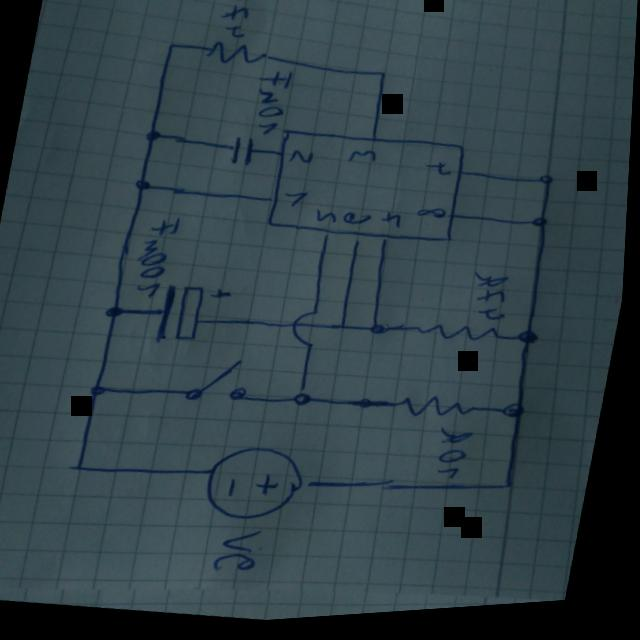capacitor: (156, 281, 211, 352), (225, 136, 260, 174)
crossover: (285, 307, 329, 360)
junction: (499, 404, 533, 433), (288, 390, 324, 417), (515, 332, 547, 360), (351, 396, 381, 421), (102, 302, 133, 326), (497, 478, 527, 502), (128, 177, 158, 200), (528, 220, 556, 244), (140, 127, 168, 150), (71, 459, 99, 481), (535, 177, 561, 199), (160, 39, 187, 60), (368, 326, 394, 346), (335, 321, 359, 341), (90, 383, 112, 402), (372, 74, 395, 92)
resistor: (393, 394, 489, 434), (411, 320, 509, 358), (198, 38, 275, 75)
source: (204, 440, 316, 535)
switch: (183, 353, 257, 414)
text: (128, 212, 185, 304), (249, 69, 299, 144), (464, 272, 518, 332), (215, 527, 271, 584), (432, 430, 479, 491), (213, 0, 256, 45), (342, 214, 375, 233), (424, 165, 456, 184), (349, 153, 379, 171), (284, 194, 310, 214), (417, 211, 449, 227), (381, 216, 405, 236), (288, 152, 316, 169), (316, 213, 341, 229)
